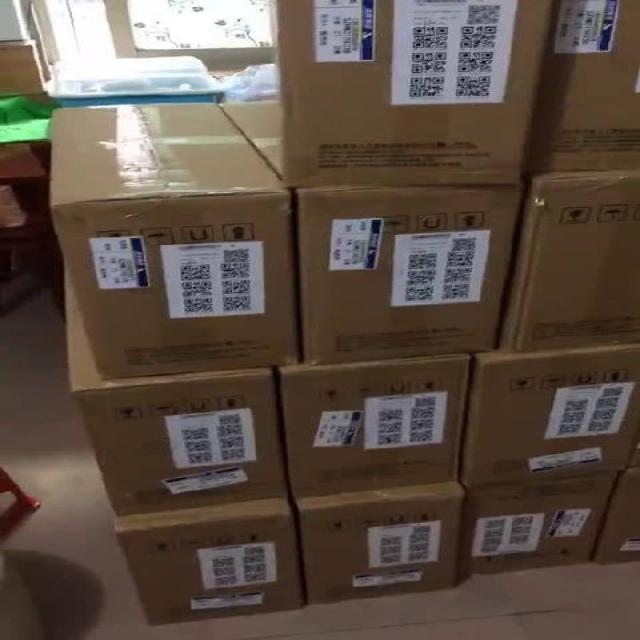box: (49, 103, 299, 381), (62, 261, 290, 518), (272, 1, 557, 187), (292, 185, 522, 359), (271, 354, 472, 498), (499, 171, 639, 354), (461, 344, 639, 487), (114, 496, 304, 627), (296, 483, 469, 607), (532, 0, 639, 171), (467, 469, 621, 574), (585, 469, 639, 564), (219, 103, 285, 176)
